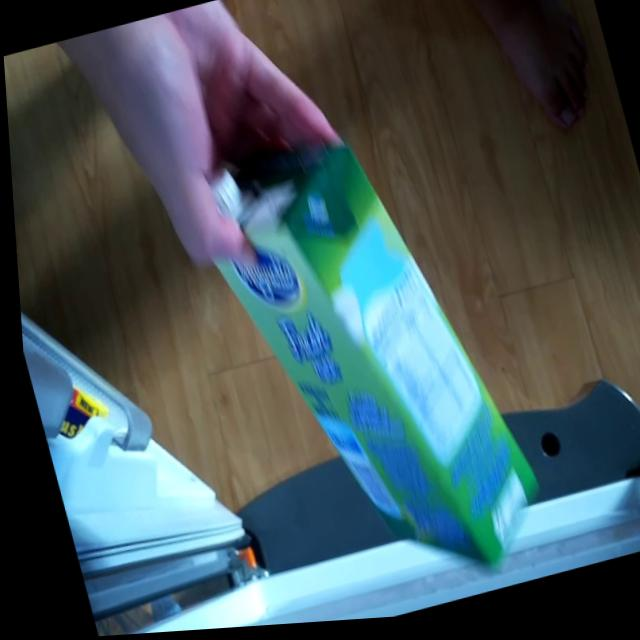milk: (195, 113, 563, 630)
